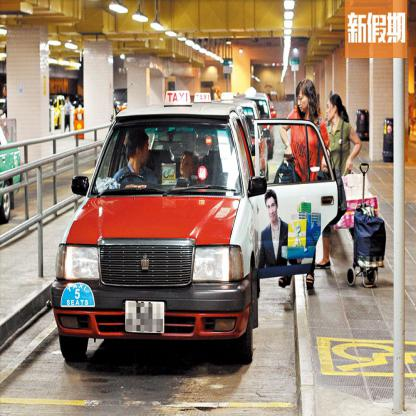taxi: (51, 88, 268, 373)
